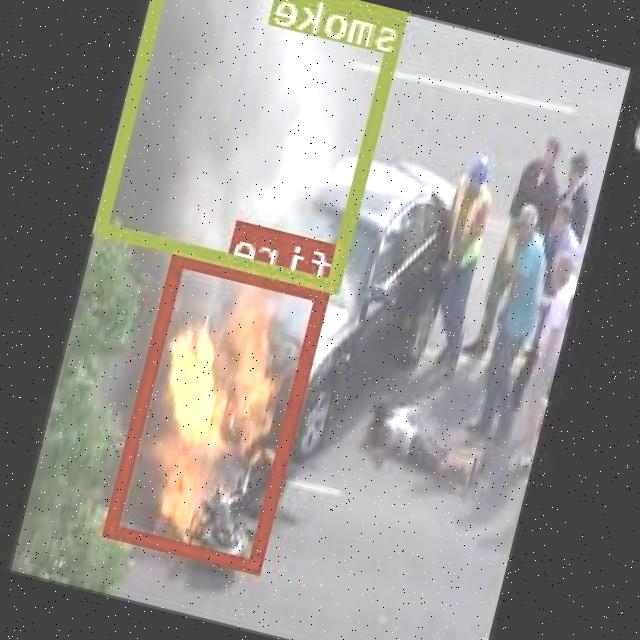fire: (106, 251, 334, 573)
smoke: (97, 0, 411, 293)
